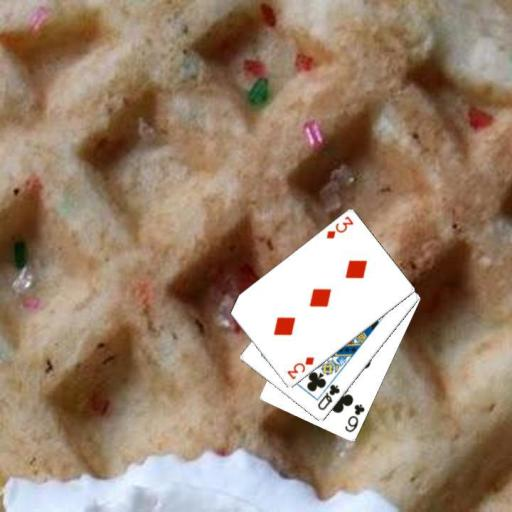3D: (284, 354, 316, 381), (323, 214, 355, 241)
6C: (342, 401, 366, 434)
QC: (315, 381, 342, 412)
